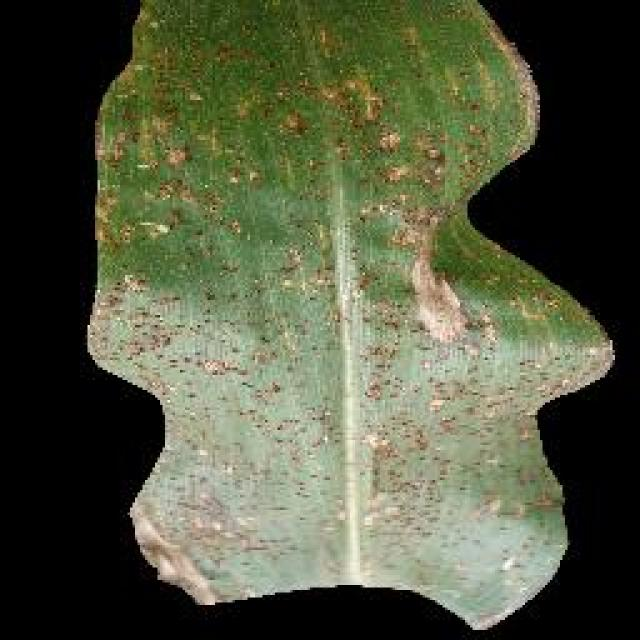Corn Common Rust: (156, 43, 506, 565)
